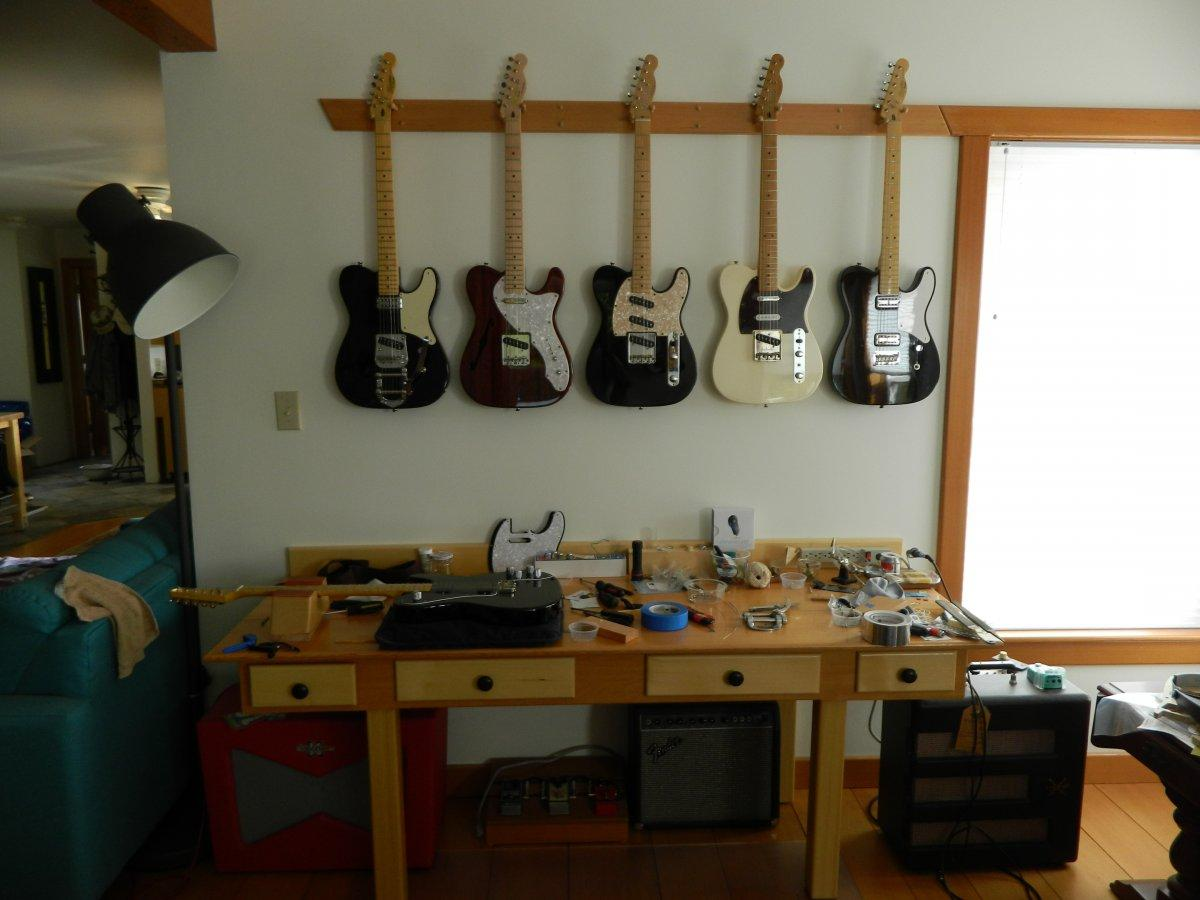acousticguitar: (330, 51, 452, 409), (588, 51, 701, 409), (462, 53, 577, 403), (712, 51, 823, 405), (830, 57, 941, 408), (166, 566, 564, 624)
